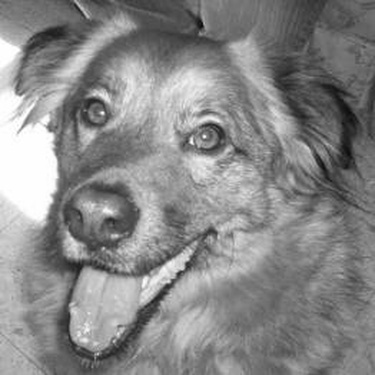dog: (4, 13, 368, 368)
